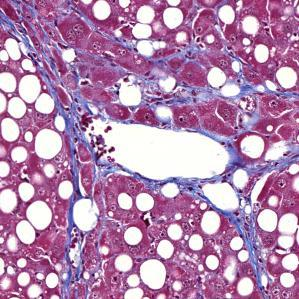fibrosis: (104, 62, 210, 124), (73, 135, 163, 194)
